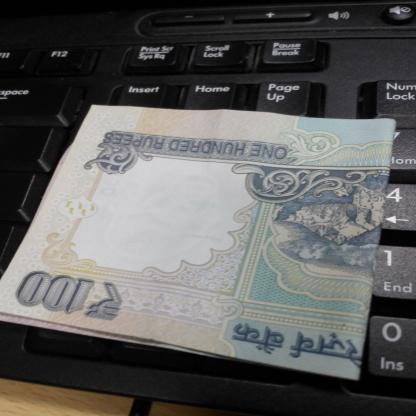Old100Back: (0, 104, 399, 382)
